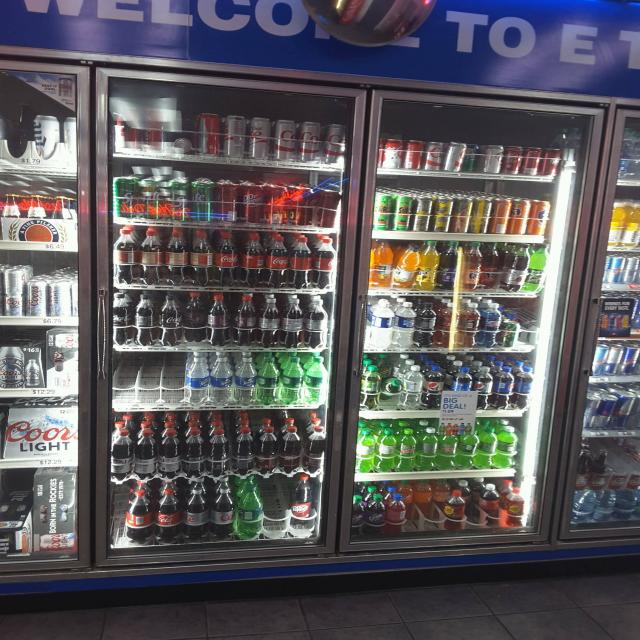empty: (110, 351, 188, 405), (257, 479, 294, 543), (607, 440, 640, 484)
